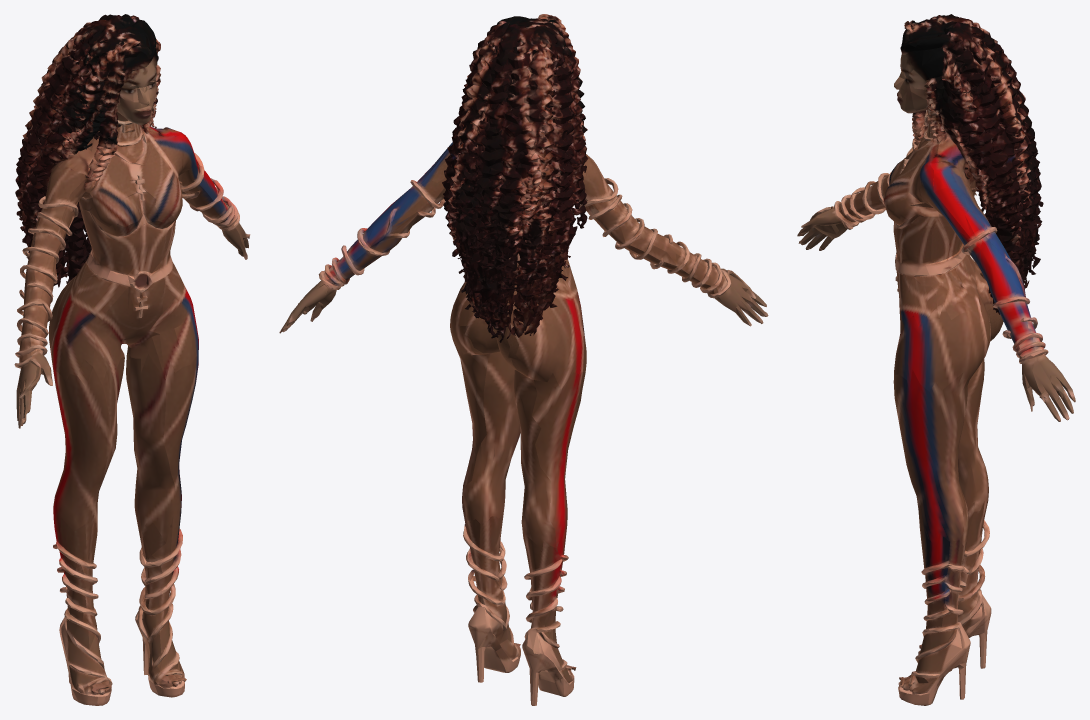
3 views of the same model, side by side, from view 1: azimuth 30°, elevation 25°; view 2: azimuth 150°, elevation 25°; view 3: azimuth 270°, elevation 25° (orthographic).
Visible parts, largest first — view 1: Mesh_0; view 2: Mesh_0; view 3: Mesh_0.
Boxes of the visible parts, <box> form: Mesh_0: <box>14,14,250,705</box>; Mesh_0: <box>279,14,768,705</box>; Mesh_0: <box>797,14,1075,705</box>.
Size of the model in its own units: 1.07 by 1.9 by 0.7258.
Materials: 1 (1 with a texture image).
